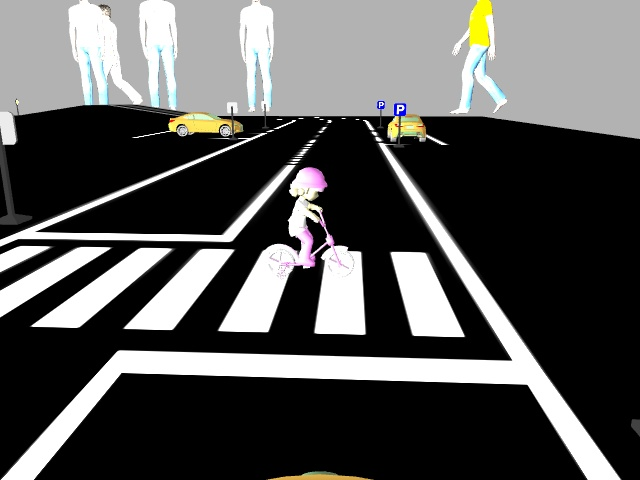Parking: (392, 102, 406, 116), (375, 98, 386, 112)
Pedestrian: (250, 163, 361, 283)
